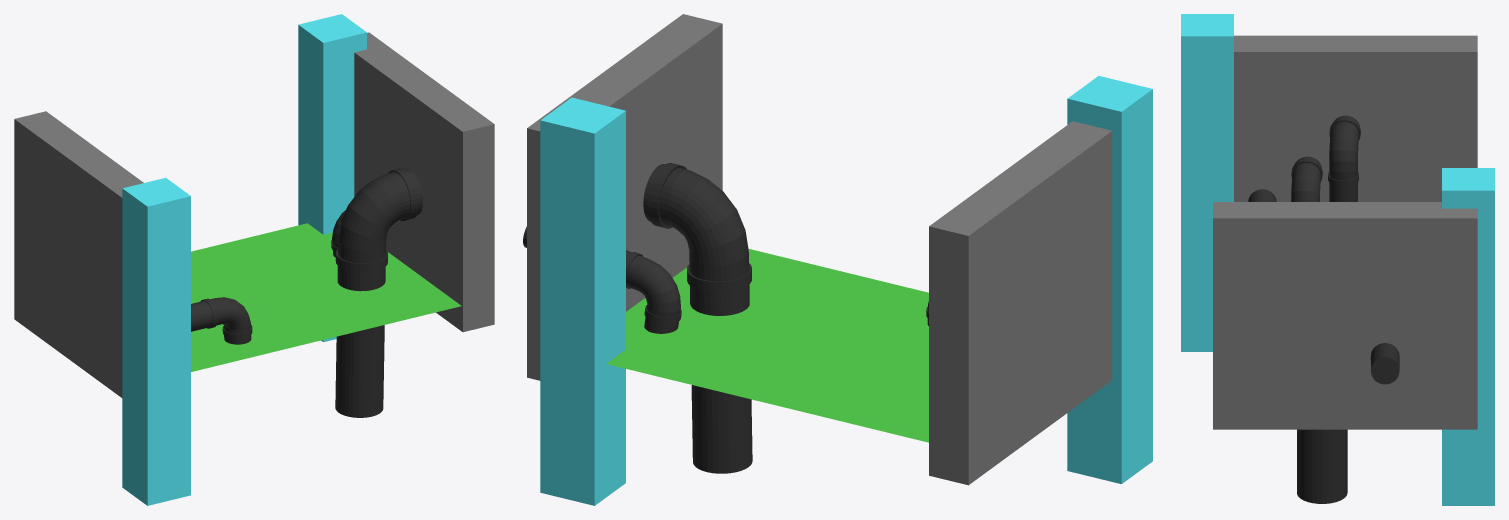
Rendered from TrenchSegNoBeamB.fbx.
3 views of the same model, side by side, from view 1: azimuth 30°, elevation 25°; view 2: azimuth 150°, elevation 25°; view 3: azimuth 270°, elevation 25° (orthographic). The views are drawn at different scales.
Visible parts, largest first — view 1: Cube.001, Cube.002, Cube, Plane, Cube.003, Cylinder, Cylinder.002; view 2: Cube.002, Plane, Cube.003, Cube.001, Cube, Cylinder, Cylinder.004; view 3: Cube.001, Cube.002, Cube, Cube.003, Cylinder, Cylinder.001, Cylinder.003, Cylinder.004.
Part boxes in pixels (x1,y1,x2,y2): Cube.001: (354, 32, 494, 332); Cube.002: (14, 111, 143, 397); Cube: (122, 177, 190, 505); Plane: (191, 223, 461, 371); Cube.003: (298, 14, 366, 342); Cylinder: (335, 168, 422, 417); Cylinder.002: (191, 297, 252, 344); Cube.002: (929, 121, 1112, 485); Plane: (606, 248, 928, 442); Cube.003: (540, 97, 625, 505); Cube.001: (527, 14, 722, 380); Cube: (1067, 76, 1152, 483); Cylinder: (643, 163, 752, 473); Cylinder.004: (523, 226, 681, 333); Cube.001: (1213, 202, 1477, 429); Cube.002: (1234, 35, 1477, 201); Cube: (1181, 14, 1233, 351); Cube.003: (1442, 168, 1494, 505); Cylinder: (1297, 429, 1347, 503); Cylinder.001: (1328, 115, 1360, 201); Cylinder.003: (1291, 156, 1322, 201); Cylinder.004: (1370, 343, 1399, 384).
Bounding box in the file's own units: 1080 × 814 × 690.
